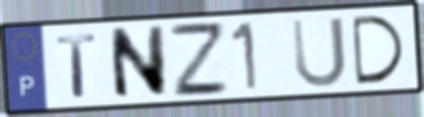1: (229, 20, 259, 93)
D: (348, 13, 408, 87)
N: (106, 23, 169, 102)
T: (53, 31, 101, 100)
U: (288, 14, 349, 90)
Z: (166, 21, 233, 100)
